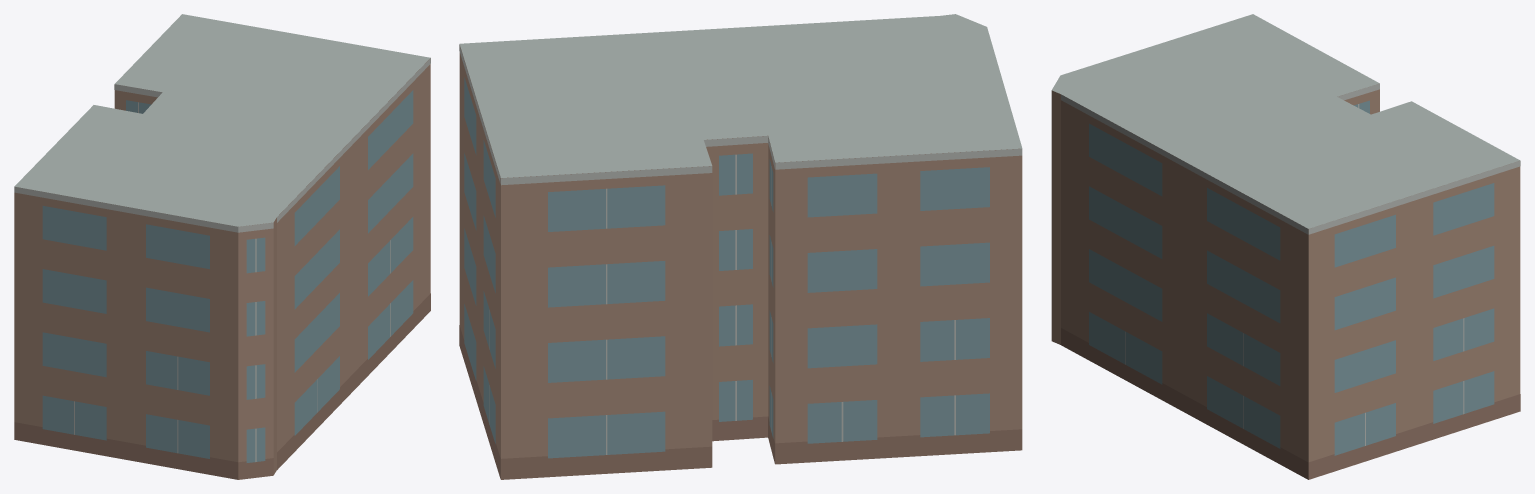
The model's file is residential-8f4a306e-fe03-4341-9098-718633a4e7c0.glb.
The picture shows the model from 3 angles, left to right: view 1: azimuth 30°, elevation 25°; view 2: azimuth 150°, elevation 25°; view 3: azimuth 270°, elevation 25°; orthographic projection. The views are drawn at different scales.
Parts seen in each view (by area): view 1: residential-8f4a306e-fe03-4341-9098-718633a4e7c0.tmp; view 2: residential-8f4a306e-fe03-4341-9098-718633a4e7c0.tmp; view 3: residential-8f4a306e-fe03-4341-9098-718633a4e7c0.tmp.
Part boxes in pixels (left/top/right/bottom): residential-8f4a306e-fe03-4341-9098-718633a4e7c0.tmp: left=14, top=14, right=430, bottom=479; residential-8f4a306e-fe03-4341-9098-718633a4e7c0.tmp: left=459, top=14, right=1022, bottom=479; residential-8f4a306e-fe03-4341-9098-718633a4e7c0.tmp: left=1051, top=14, right=1520, bottom=479.
Bounding box in the file's own units: 19.11 × 10.4 × 17.62.
